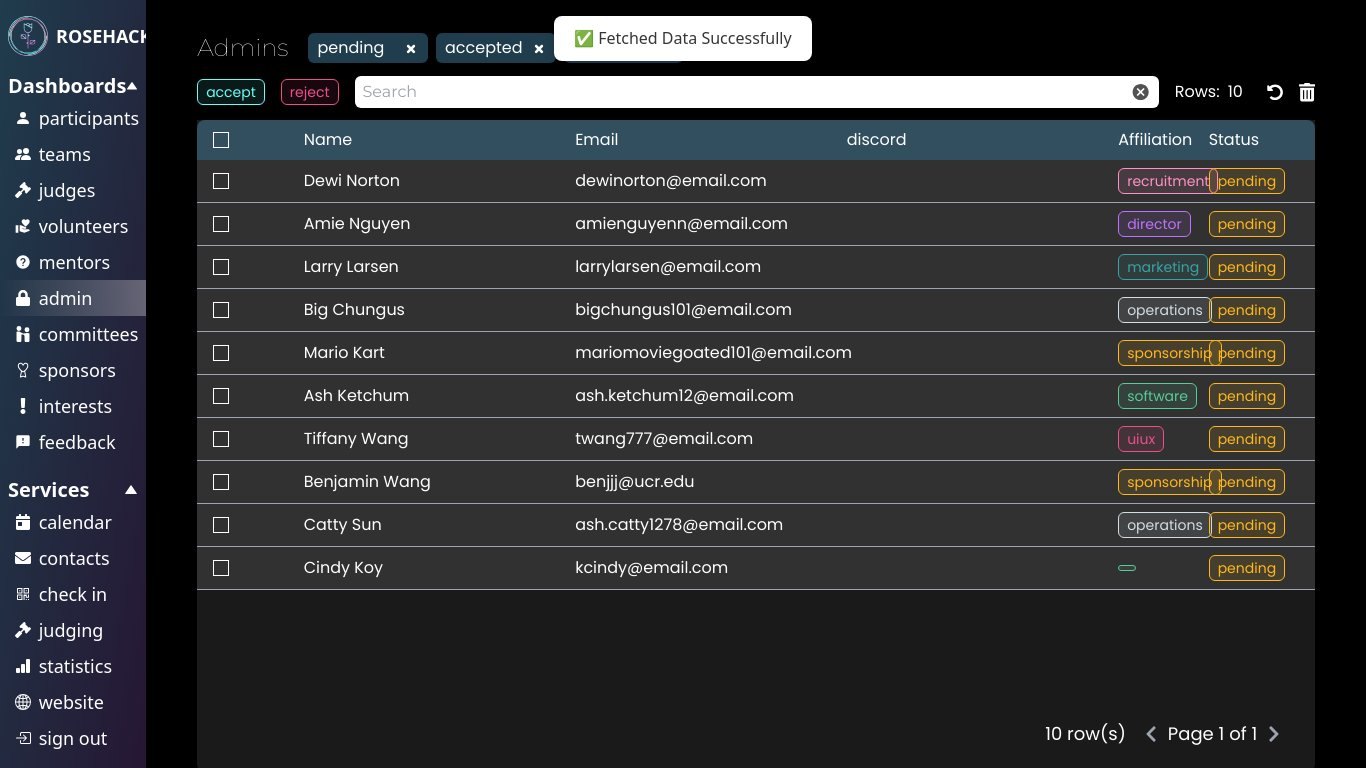
Test case: Admin Filters › Click 2 Filters
Click the element with test id "accepted-filter" at (496, 48), box [436,33,556,63]
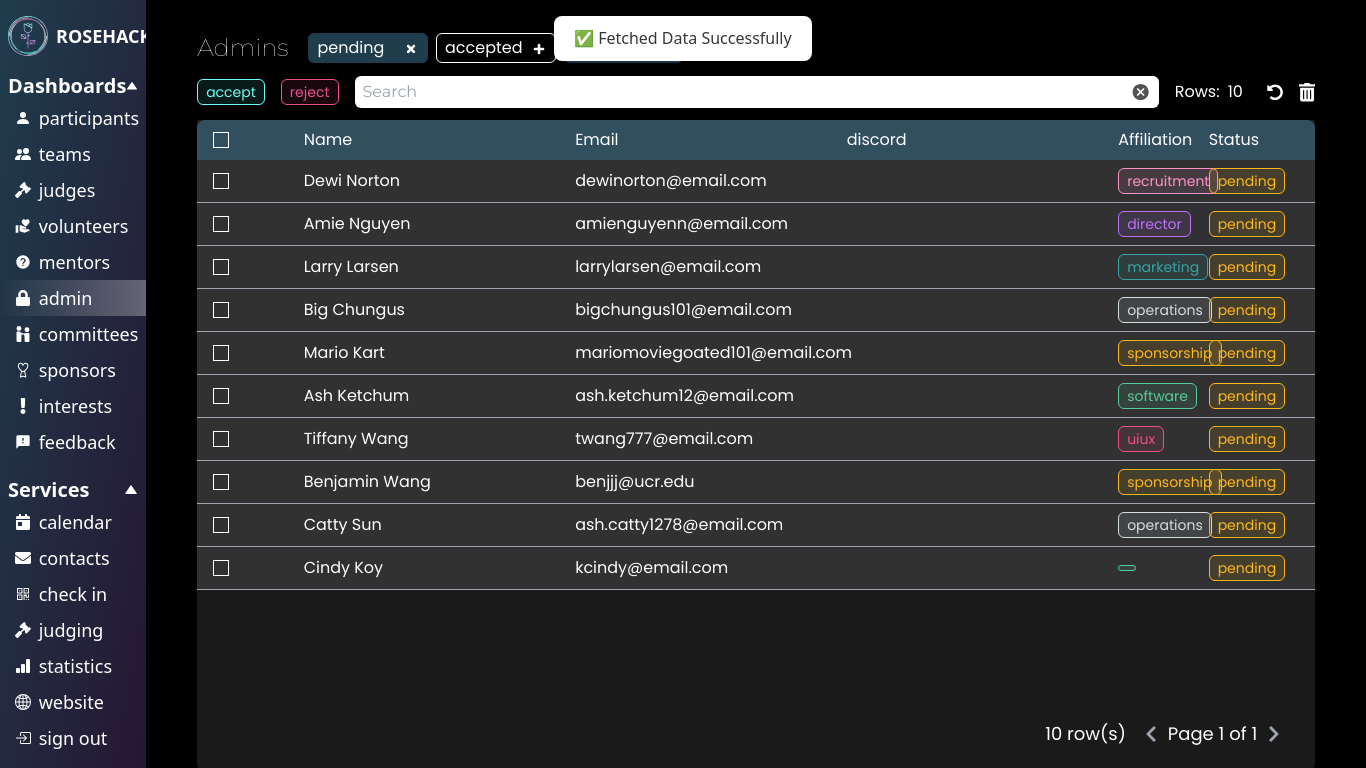
Click the element with test id "pending-filter" at (368, 48), box [308,33,428,63]
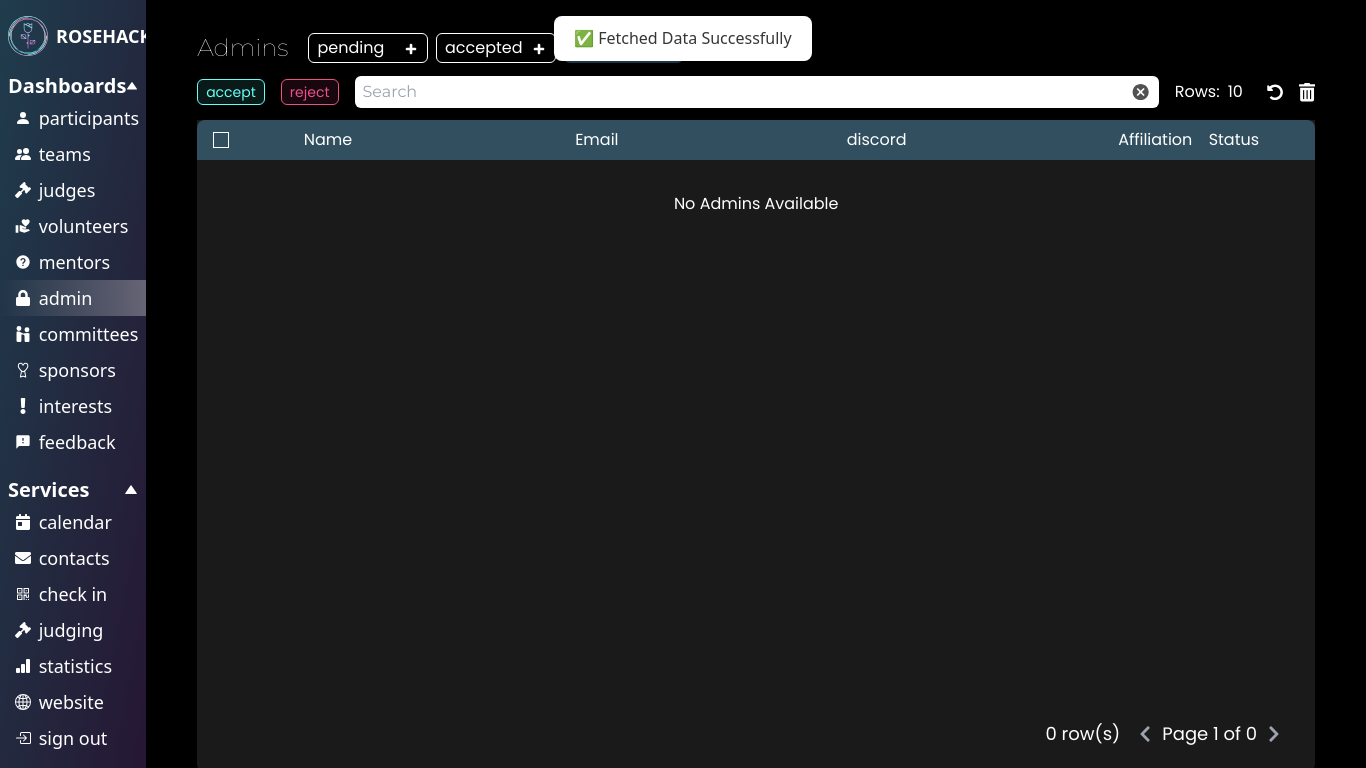
Expected: the element with test id "1" is gone
Expected: the element with test id "2" is gone
Expected: the element with test id "3" is gone
